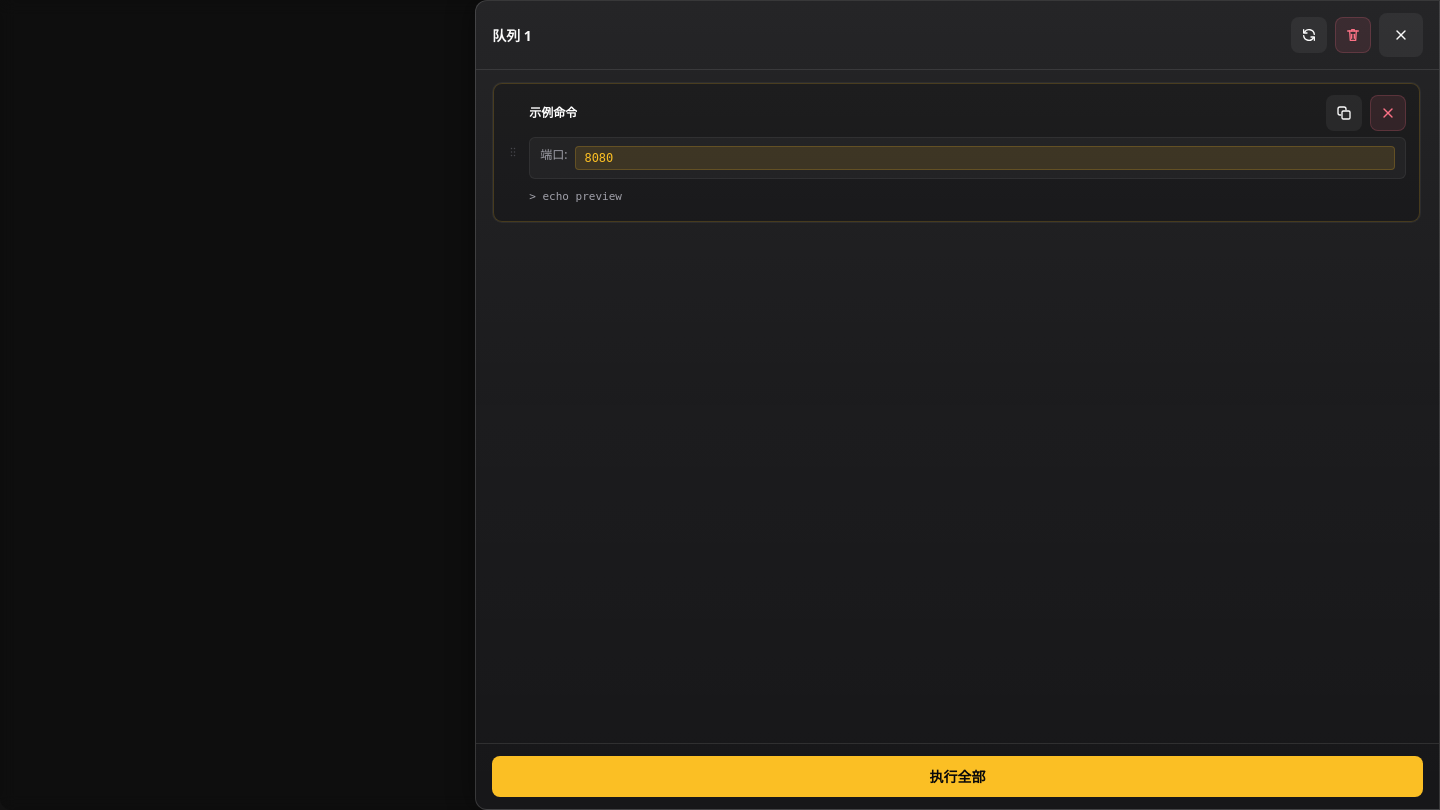
Test: LauncherFlowPanel 内联编辑 › 缺少显式值时回退 defaultValue，并把它带进按钮语义与编辑输入
Click the button with class "flow-card__param-value" at (599, 158), box 575,146 -> 1395,170
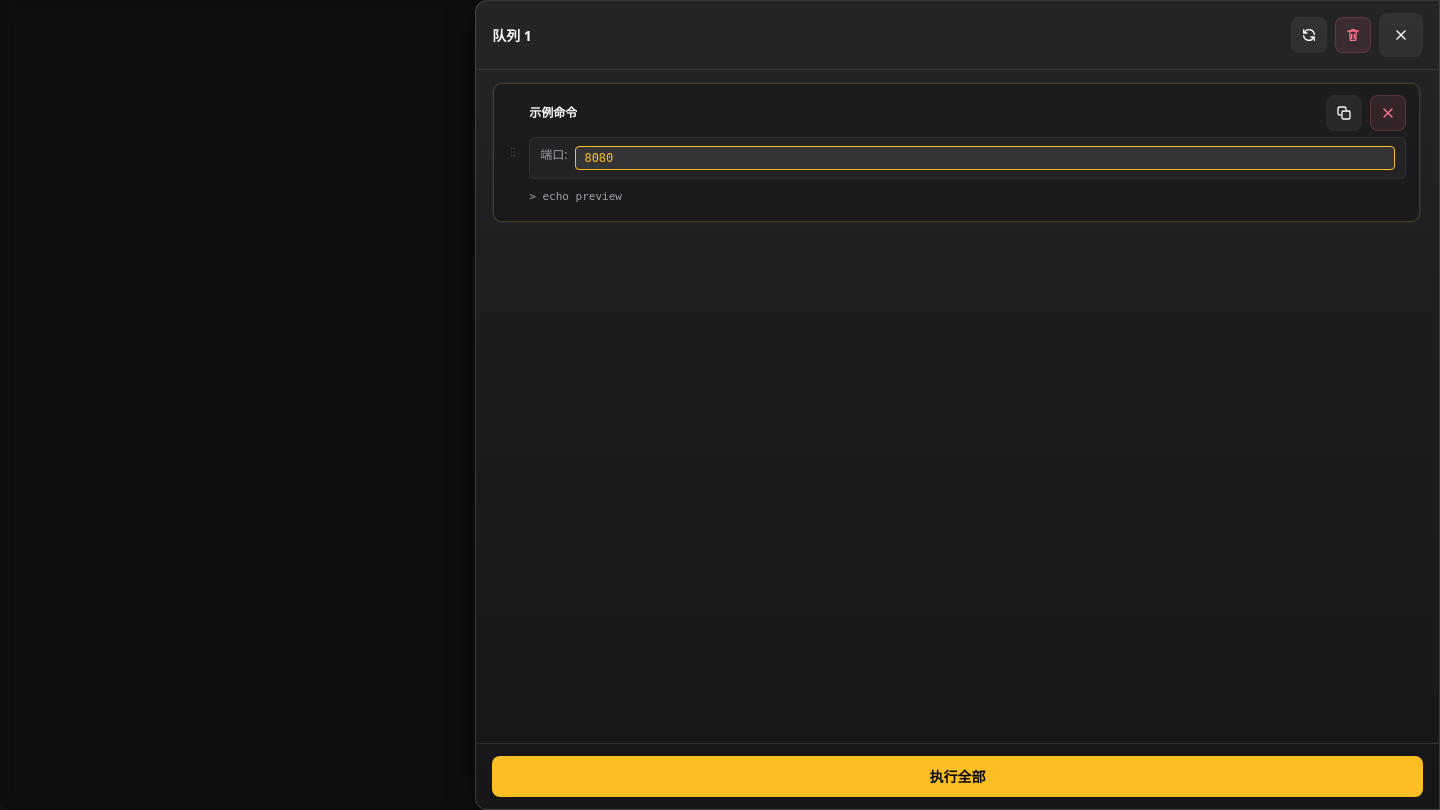
Now the field with class "flow-card__param-input" holds "8080", box 575,146 -> 1395,170
